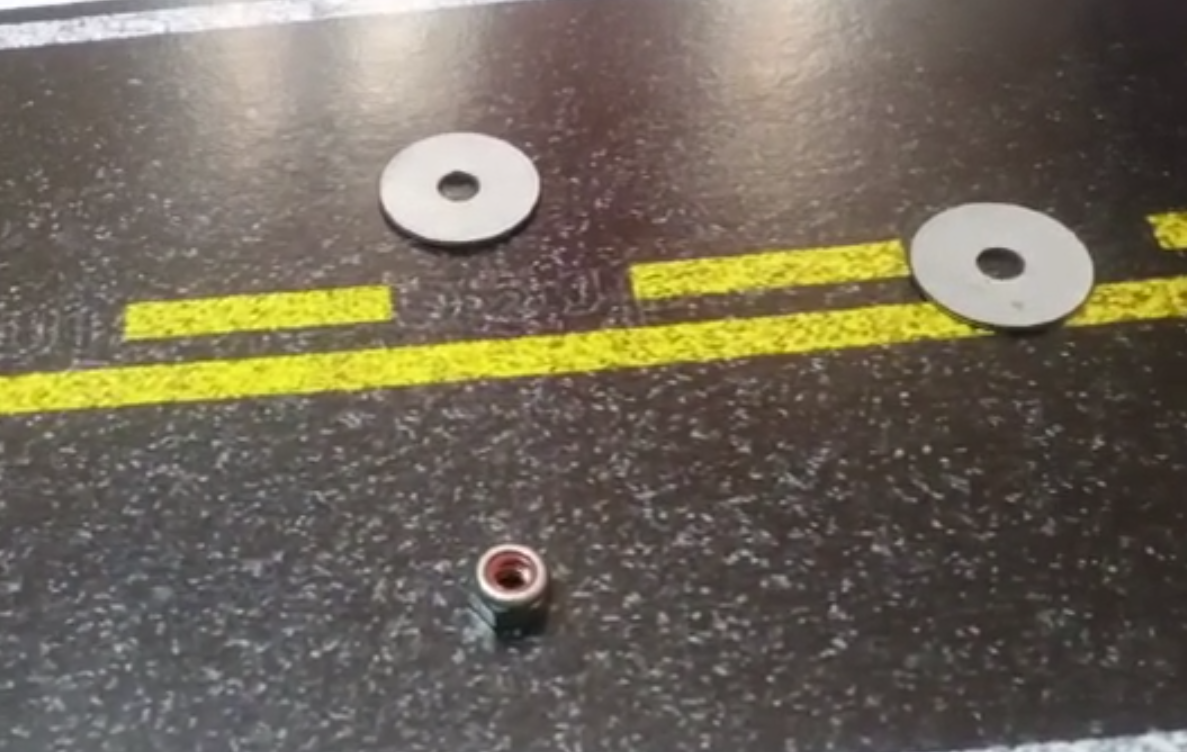metal: (909, 200, 1099, 347), (376, 129, 547, 257), (464, 539, 553, 630)
